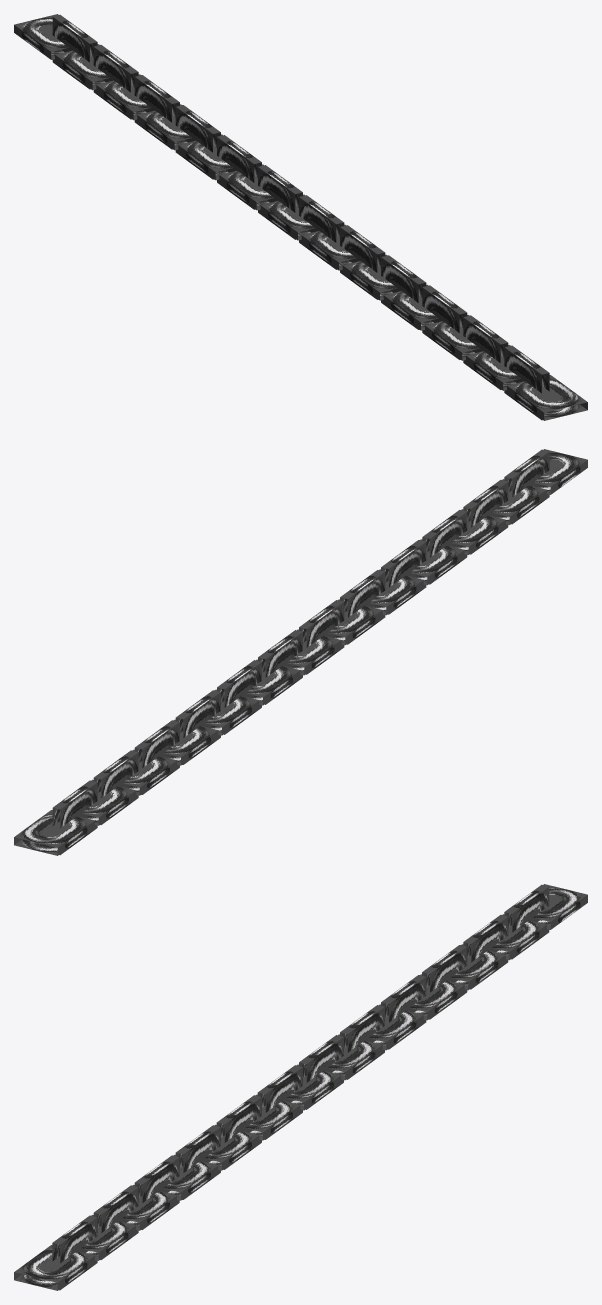
File: INST_SWORDLIGHT_CHAINB.fbx
3 renders of one model, top to bottom at view 1: azimuth 30°, elevation 25°; view 2: azimuth 150°, elevation 25°; view 3: azimuth 330°, elevation 25°, orthographic.
Visible parts, largest first — view 1: INST_SWORDLIGHT_CHAINB; view 2: INST_SWORDLIGHT_CHAINB; view 3: INST_SWORDLIGHT_CHAINB.
Boxes of the visible parts, x1,y1,x2,y2 form: INST_SWORDLIGHT_CHAINB: (14, 14, 587, 420); INST_SWORDLIGHT_CHAINB: (14, 449, 587, 855); INST_SWORDLIGHT_CHAINB: (14, 884, 587, 1290).
Size of the model in its own units: 1001 by 1001 by 21072.
1 material, 1 textured.
